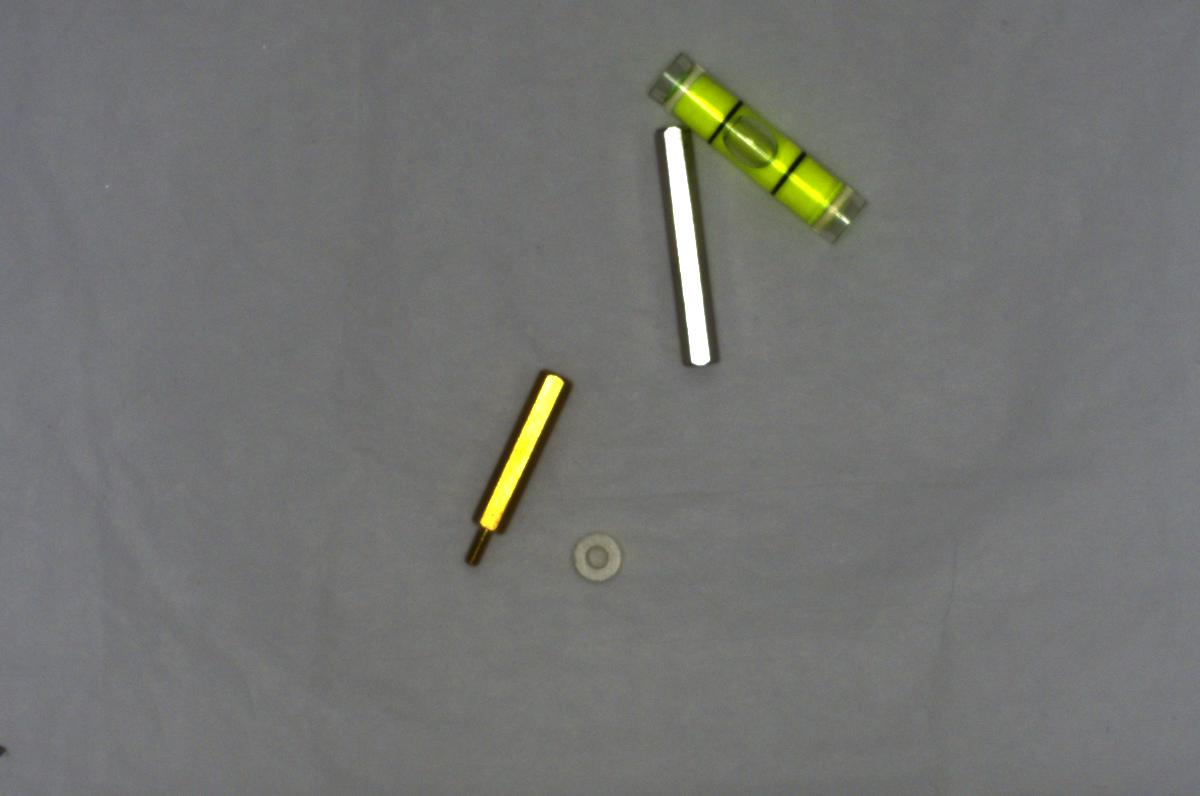Double hexagonal column: (644, 116, 725, 380)
Hexagon pillar: (446, 360, 568, 566)
Horizontal bubble: (640, 54, 873, 242)
Plastic cushion pillar: (565, 522, 627, 588)
